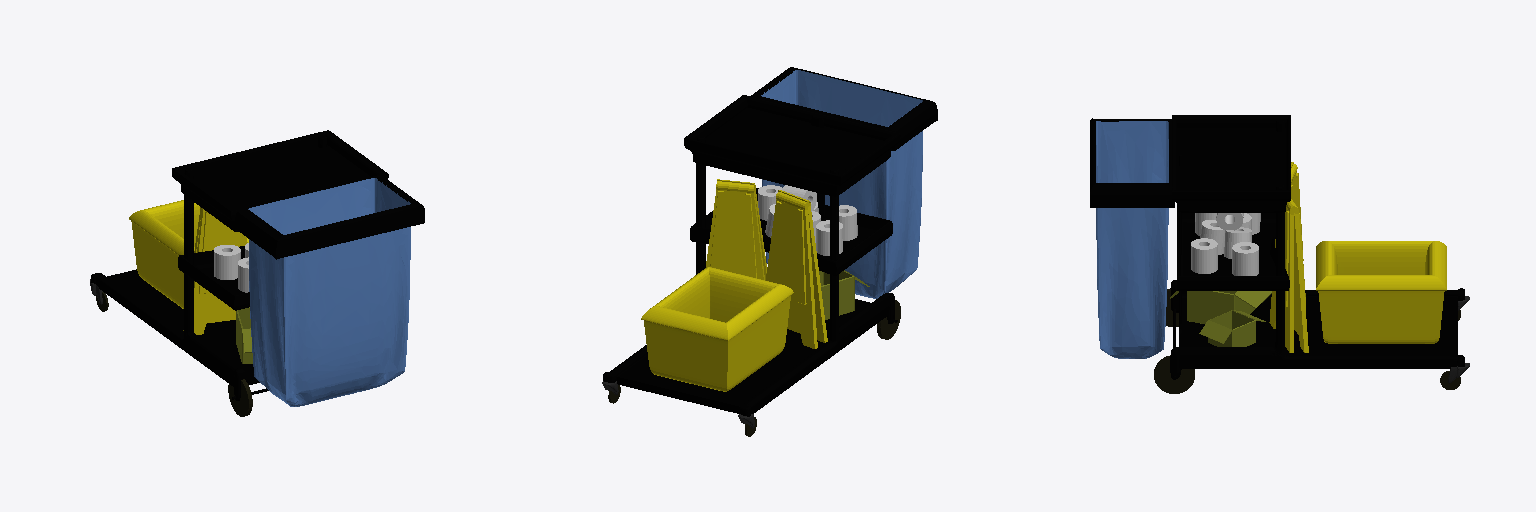
Rendered from 推车official.obj.
3 renders of one model, left to right at view 1: azimuth 30°, elevation 25°; view 2: azimuth 150°, elevation 25°; view 3: azimuth 270°, elevation 25°, orthographic.
Parts seen in each view (by area): view 1: Cube.005, Cube, 拖车骨架, Cube.001, Cube.004, 托盘1, Plane.005, Plane.006, Cylinder.009, Cube.009, Cylinder.001; view 2: Cube.004, Cube, Cube.005, 拖车骨架, Plane.007, 拖车骨架.001, Plane.004, 托盘1, Cube.001, Plane.003, Cube.009, Plane.005 (+3 smaller); view 3: Cube.005, Cube.004, Cube, 拖车骨架.001, 托盘1, Cube.001, 拖车骨架, Cube.009, Plane.008, Cube.006, Plane.002, Cylinder.003 (+2 smaller).
Part boxes in pixels (left/top/right/bottom): Cube.005: left=248, top=178, right=410, bottom=406; Cube: left=172, top=130, right=388, bottom=231; 拖车骨架: left=91, top=168, right=306, bottom=400; Cube.001: left=234, top=175, right=424, bottom=259; Cube.004: left=129, top=200, right=248, bottom=308; 托盘1: left=178, top=246, right=249, bottom=310; Plane.005: left=194, top=208, right=247, bottom=334; Plane.006: left=199, top=211, right=242, bottom=293; Cylinder.009: left=214, top=245, right=240, bottom=279; Cube.009: left=236, top=308, right=252, bottom=363; Cylinder.001: left=228, top=379, right=252, bottom=416; Cube.004: left=641, top=267, right=793, bottom=391; Cube: left=684, top=95, right=900, bottom=196; Cube.005: left=761, top=70, right=922, bottom=298; 拖车骨架: left=679, top=116, right=894, bottom=416; Plane.007: left=710, top=191, right=756, bottom=277; 拖车骨架.001: left=603, top=115, right=817, bottom=398; Plane.004: left=769, top=201, right=806, bottom=304; 托盘1: left=690, top=188, right=892, bottom=275; Cube.001: left=751, top=67, right=937, bottom=150; Plane.003: left=766, top=200, right=817, bottom=348; Cube.009: left=819, top=271, right=854, bottom=319; Plane.005: left=787, top=203, right=827, bottom=342; Cube.005: left=1096, top=121, right=1168, bottom=358; Cube.004: left=1316, top=241, right=1446, bottom=343; Cube: left=1172, top=115, right=1290, bottom=212; 拖车骨架.001: left=1170, top=153, right=1464, bottom=379; 托盘1: left=1177, top=212, right=1289, bottom=290; Cube.001: left=1090, top=118, right=1174, bottom=207; 拖车骨架: left=1170, top=119, right=1464, bottom=326; Cube.009: left=1187, top=291, right=1254, bottom=323; Plane.008: left=1294, top=214, right=1308, bottom=352; Cube.006: left=1208, top=310, right=1255, bottom=346; Plane.002: left=1269, top=208, right=1294, bottom=352; Cylinder.003: left=1154, top=355, right=1194, bottom=393.
Size of the model in its own units: 2.48 by 3.13 by 5.2.